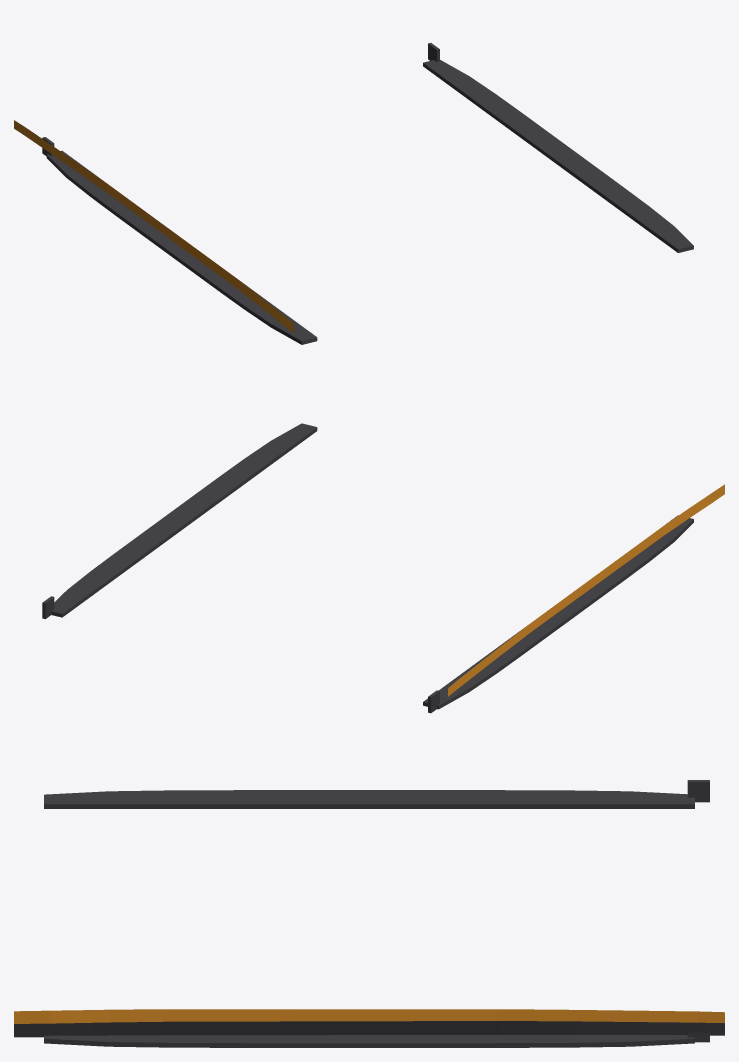
File: protoCoupe_sideSkirts_kurogane.glb
3 renders of one model, top to bottom at view 1: azimuth 30°, elevation 25°; view 2: azimuth 150°, elevation 25°; view 3: azimuth 270°, elevation 25°, orthographic. The views are drawn at different scales.
Parts seen in each view (by area): view 1: sideSkirts_kurogane; view 2: sideSkirts_kurogane; view 3: sideSkirts_kurogane.
Boxes of the visible parts, <box> form: sideSkirts_kurogane: <box>14,43,693,344</box>; sideSkirts_kurogane: <box>42,423,724,713</box>; sideSkirts_kurogane: <box>14,780,724,1047</box>.
Bounding box in the file's own units: 1.71 × 0.1306 × 1.9.
